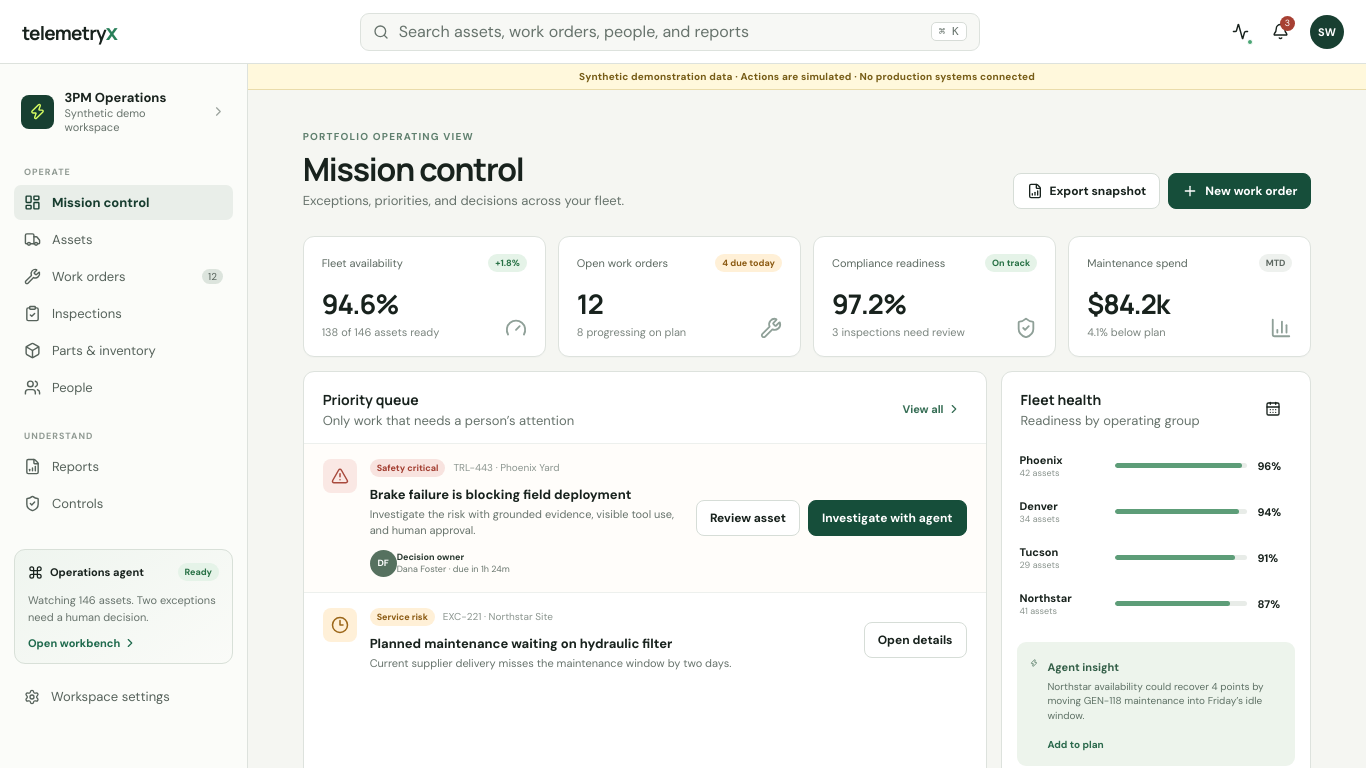
Test: TelemetryX operating shell › renders mission control and navigates to assets
Expected: the heading "Mission control" is shown, [303,147,524,191]
Step 1. Click the button "Assets" → click(124, 240), box [14,222,233,257]
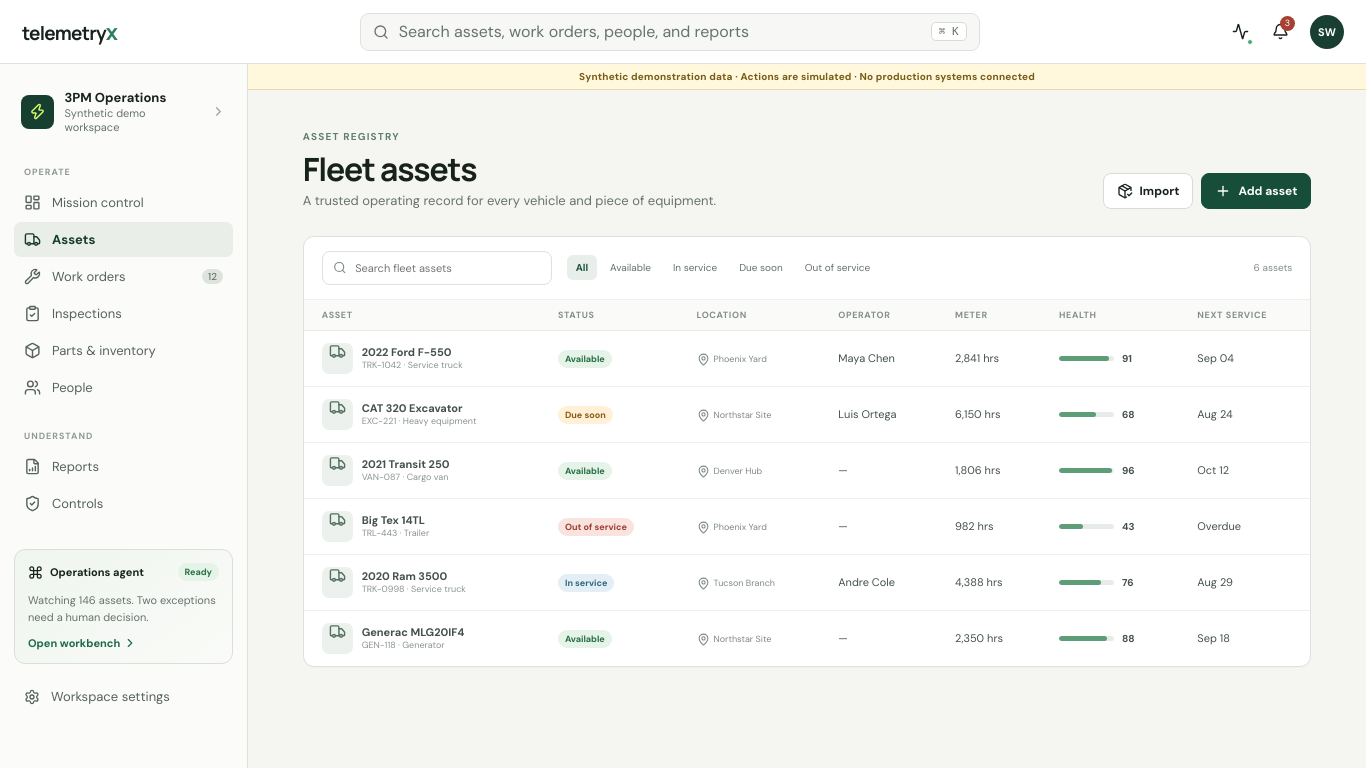
Result: the heading "Fleet assets" is shown at [303,147,476,191]
Result: the text "2022 Ford F-550" is shown at [362,345,463,359]
